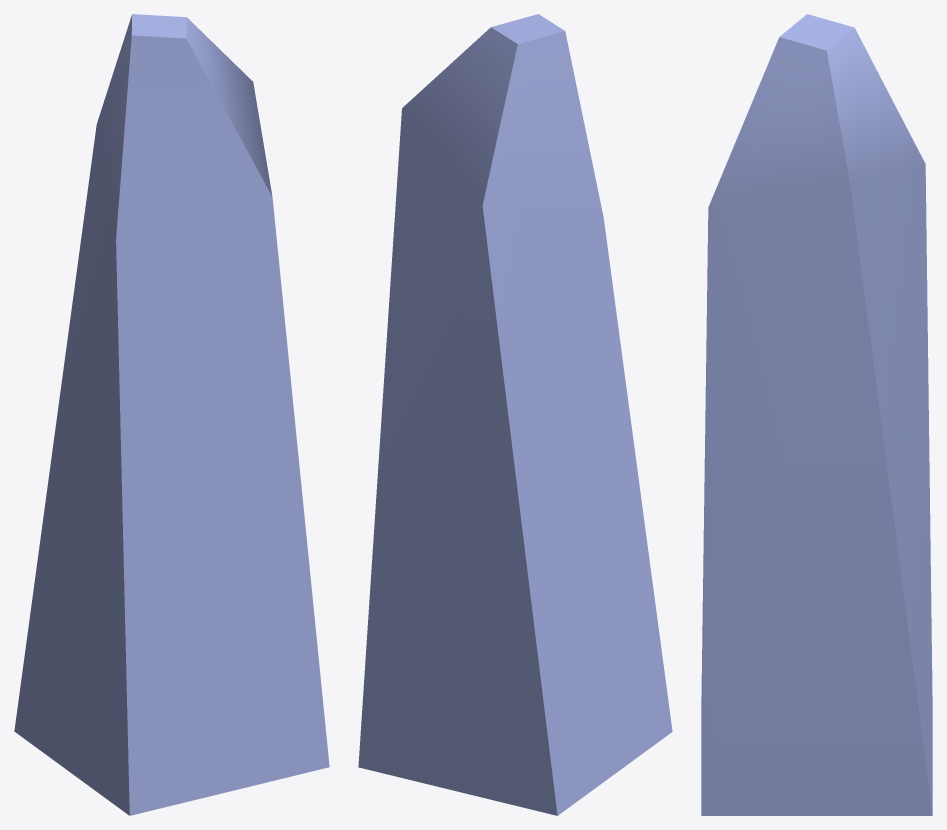
Rendered from crystal.fbx.
3 renders of one model, left to right at view 1: azimuth 30°, elevation 25°; view 2: azimuth 150°, elevation 25°; view 3: azimuth 270°, elevation 25°, orthographic.
Parts seen in each view (by area): view 1: crystal; view 2: crystal; view 3: crystal.
Part boxes in pixels (left/top/right/bottom): crystal: left=14, top=14, right=329, bottom=815; crystal: left=358, top=14, right=672, bottom=815; crystal: left=701, top=14, right=932, bottom=815.
Bounding box in the file's own units: 1 × 3.48 × 1.
